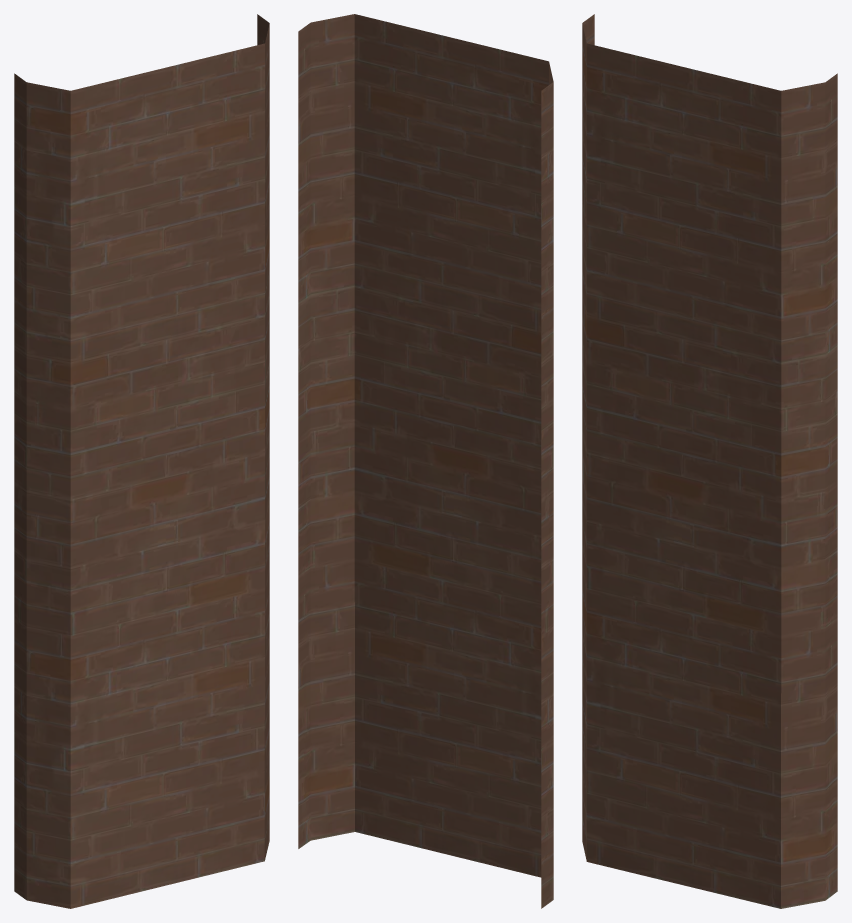
File: Brick_HalfColumn_Center.glb
3 renders of one model, left to right at view 1: azimuth 30°, elevation 25°; view 2: azimuth 150°, elevation 25°; view 3: azimuth 330°, elevation 25°, orthographic.
Visible parts, largest first — view 1: Brick_HalfColumn_Center; view 2: Brick_HalfColumn_Center; view 3: Brick_HalfColumn_Center.
Part boxes in pixels (x1=…): Brick_HalfColumn_Center: x1=14, y1=14, x2=269, y2=908; Brick_HalfColumn_Center: x1=298, y1=14, x2=553, y2=908; Brick_HalfColumn_Center: x1=582, y1=14, x2=837, y2=908.
Size of the model in its own units: 0.9324 by 3 by 0.2132.
Materials: 1 (1 with a texture image).
